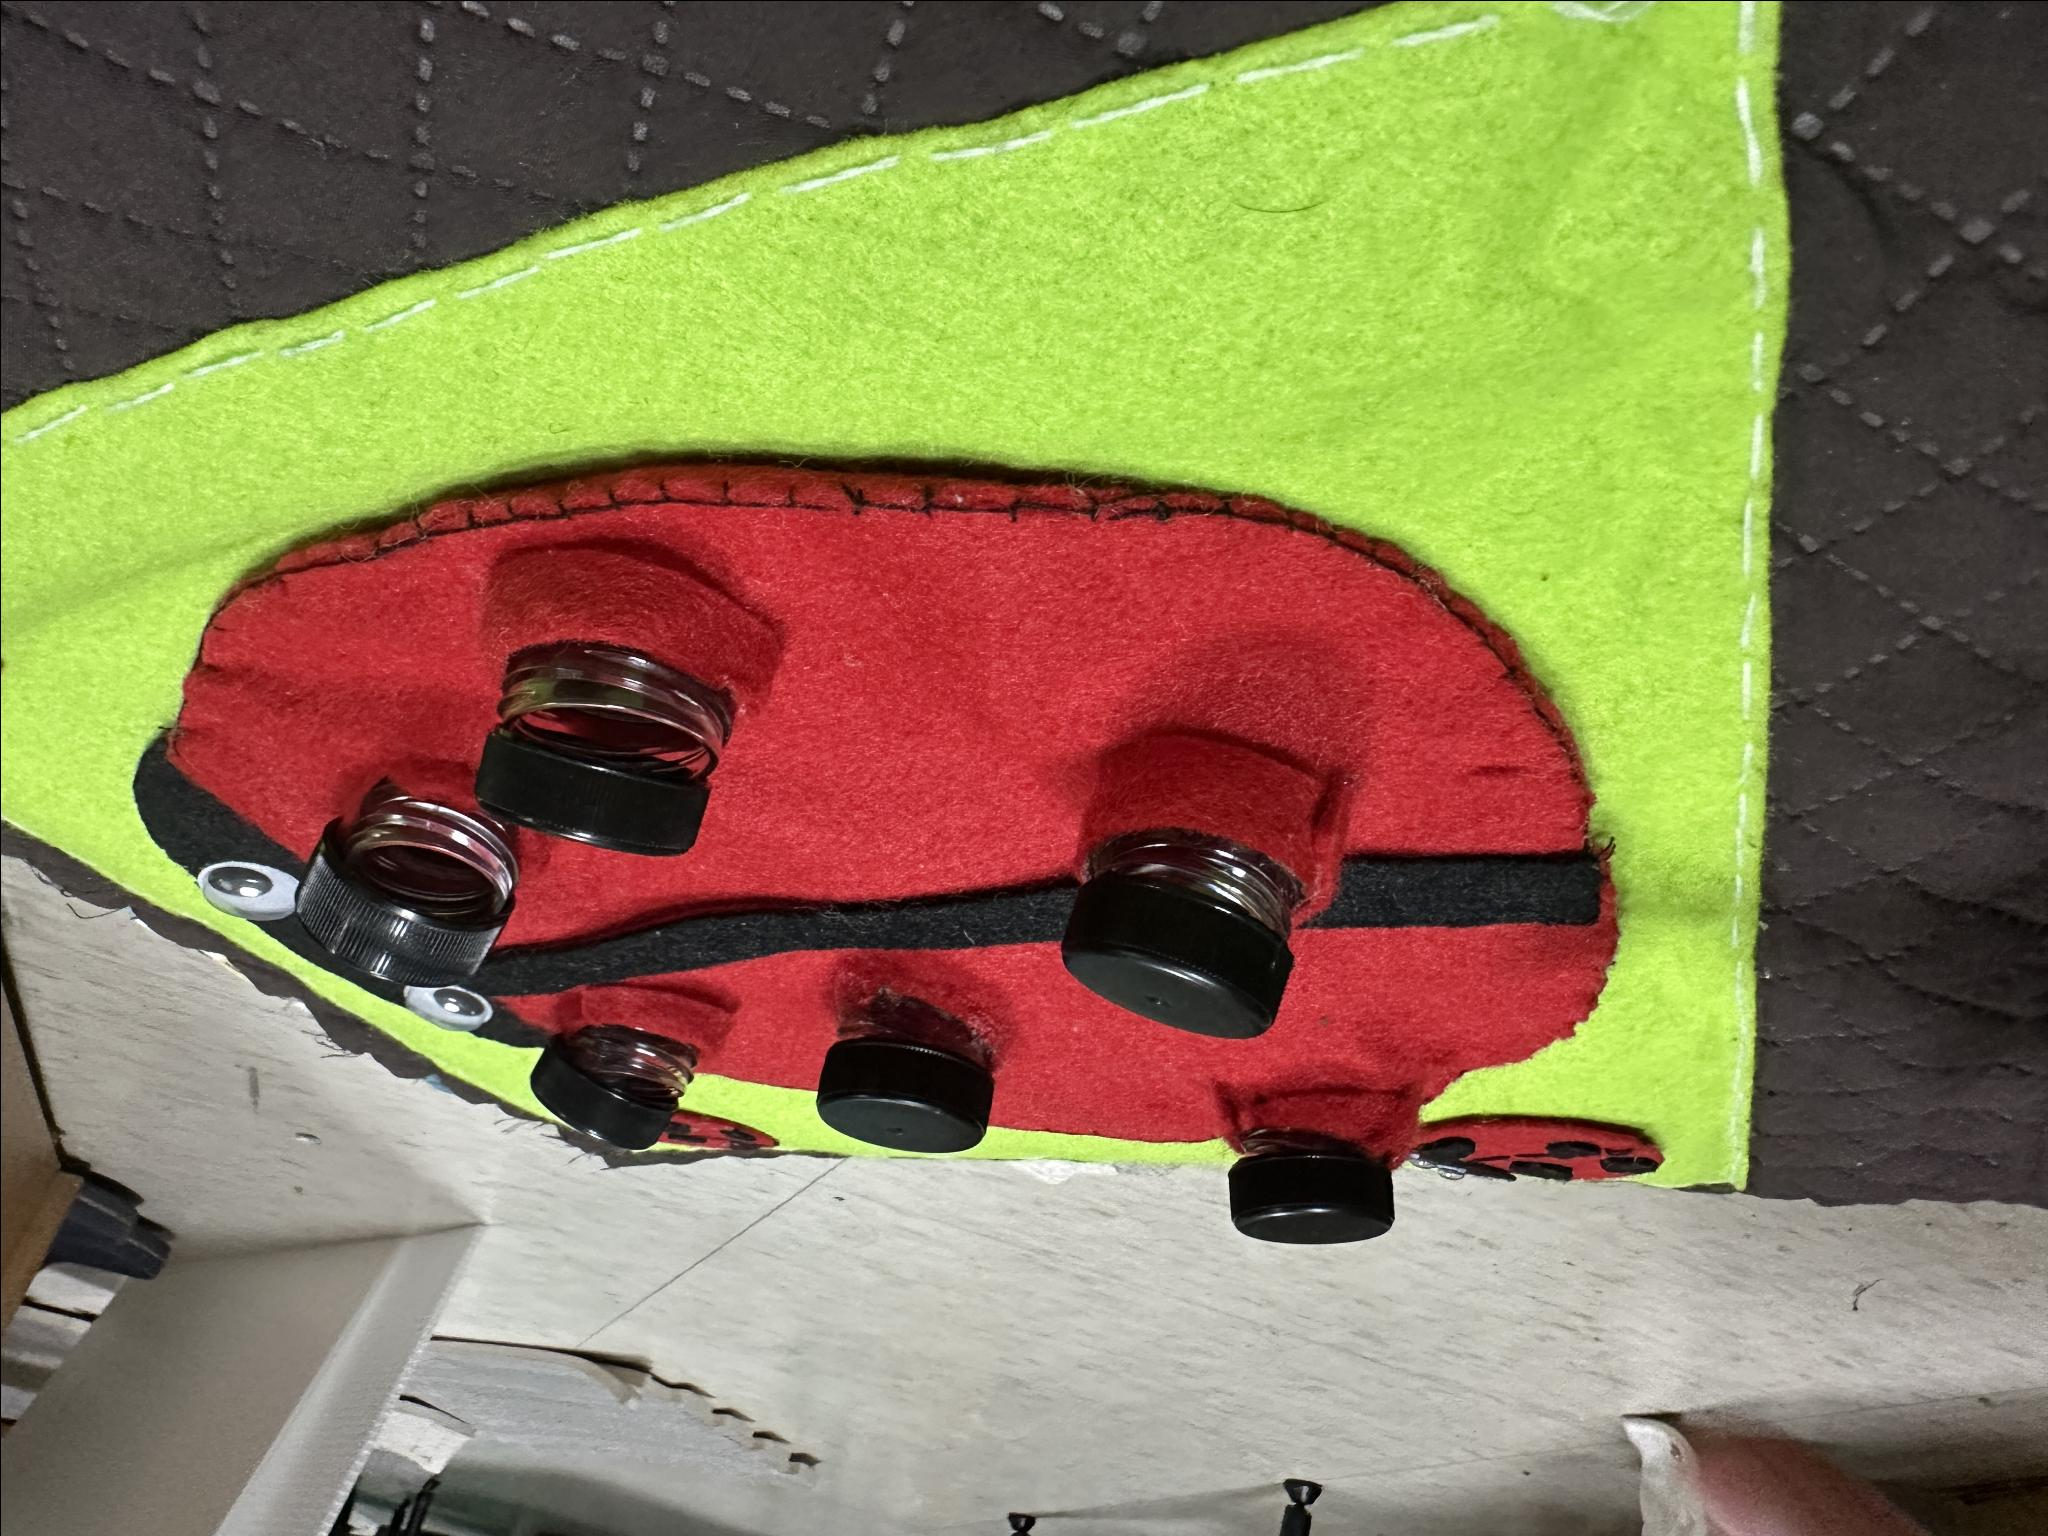cap_ng: (465, 528, 823, 856), (1042, 727, 1380, 1035), (242, 748, 536, 984), (797, 936, 1025, 1160), (516, 975, 750, 1159), (1229, 1089, 1425, 1251)
